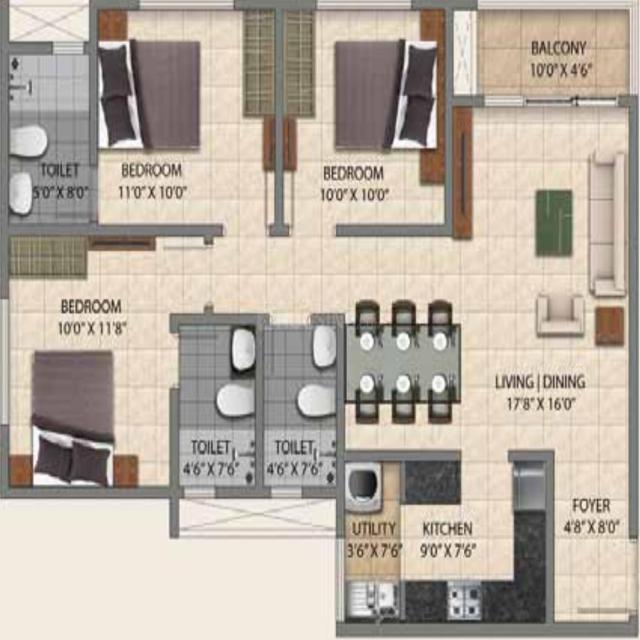Balcony-Sitout: (451, 4, 635, 98)
Bedroom: (277, 4, 450, 233)
Bedroom with Toilet: (3, 226, 263, 496), (2, 3, 280, 233)
Dining: (345, 297, 462, 432)
Enterance-Foyer: (553, 456, 636, 625)
Kitchen: (404, 457, 550, 629)
Living: (463, 100, 634, 453)
Toilet: (8, 53, 90, 225), (179, 324, 258, 485), (264, 326, 338, 486)
Utility: (340, 457, 404, 627)
